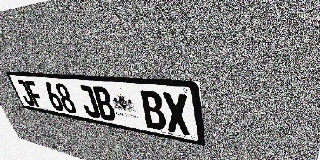6: (42, 82, 65, 112)
8: (54, 83, 78, 114)
B: (138, 90, 167, 131), (91, 86, 118, 122)
F: (24, 80, 46, 108)
J: (76, 85, 101, 119), (15, 79, 36, 106)
X: (161, 92, 191, 136)
